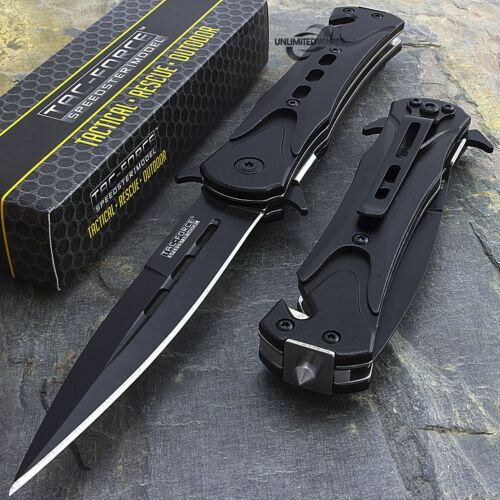knief: (18, 7, 454, 492)
